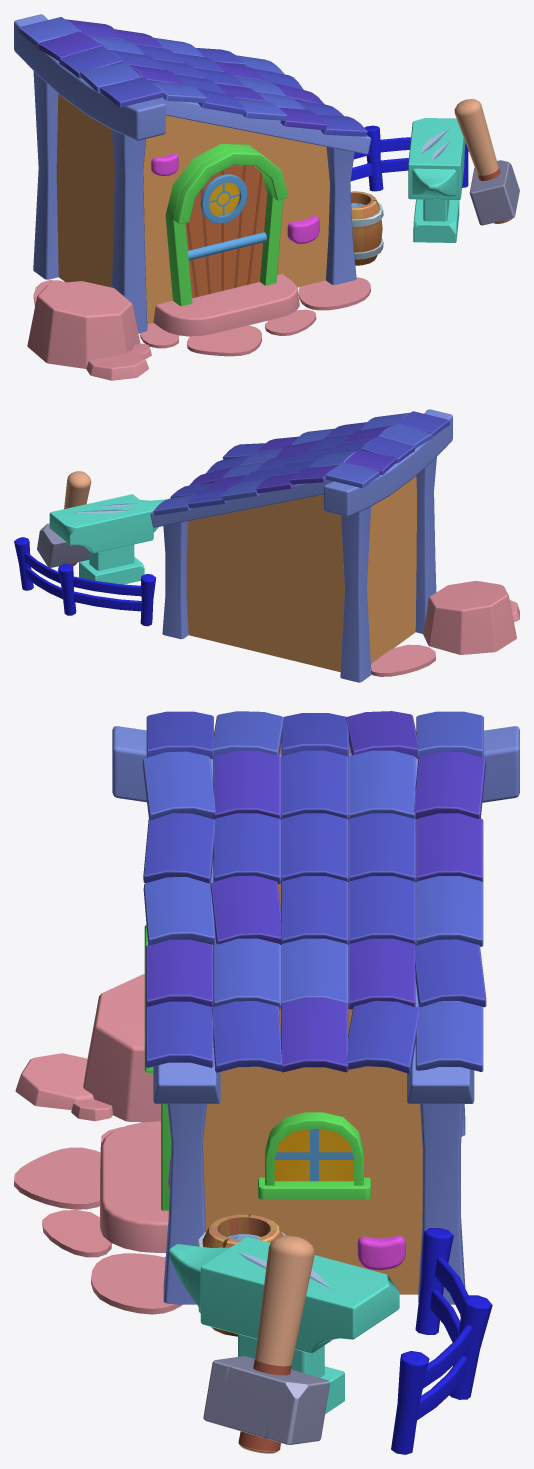
Rendered from BlackSmithy.fbx.
3 views of the same model, one above another, from view 1: azimuth 30°, elevation 25°; view 2: azimuth 150°, elevation 25°; view 3: azimuth 270°, elevation 25° (orthographic). The views are drawn at different scales.
Parts seen in each view (by area): view 1: Cube.020; view 2: Cube.020; view 3: Cube.020.
Boxes of the visible parts, left/top/right/bottom form: Cube.020: left=14, top=14, right=519, bottom=380; Cube.020: left=14, top=409, right=519, bottom=682; Cube.020: left=14, top=711, right=519, bottom=1454.
Size of the model in its own units: 949 by 435 by 488.
